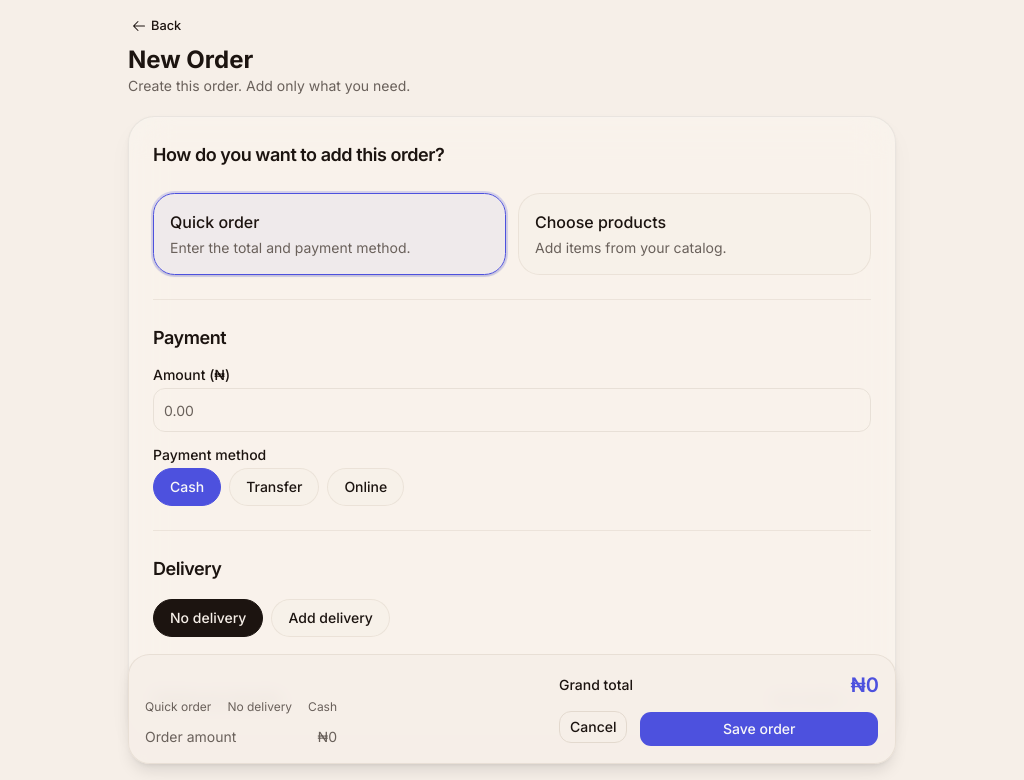
Test: NewOrderPage › shows an API error when order creation fails
Click the button "Quick order Enter the total and payment method.". click: [215, 222]
box: [153,193,506,275]
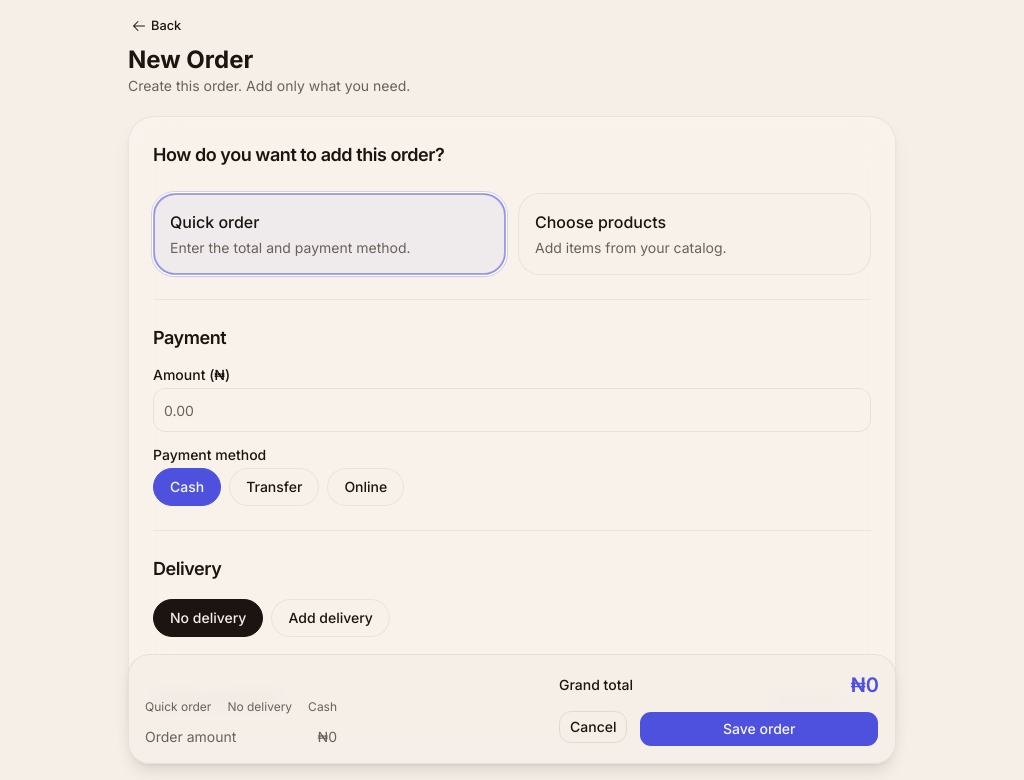
Type "9000" into the number field labelled "Amount (₦)". click: [512, 410]
box: [153,388,871,432]
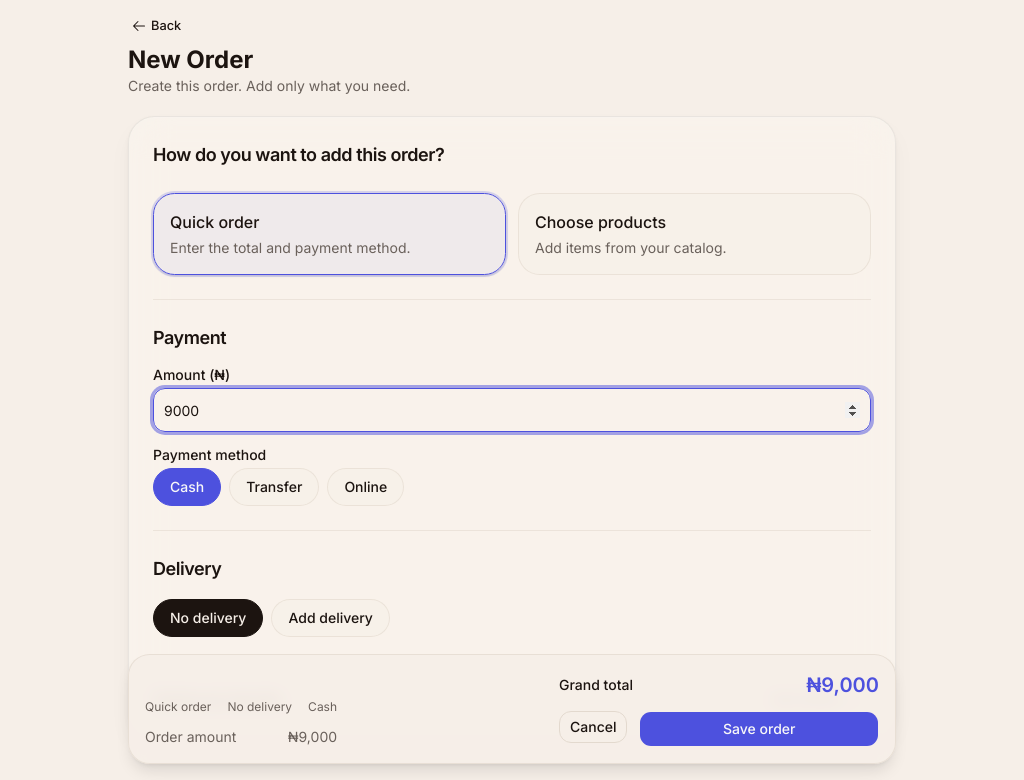
Click the button "Save order". click: [759, 729]
box: [640,711,879,747]
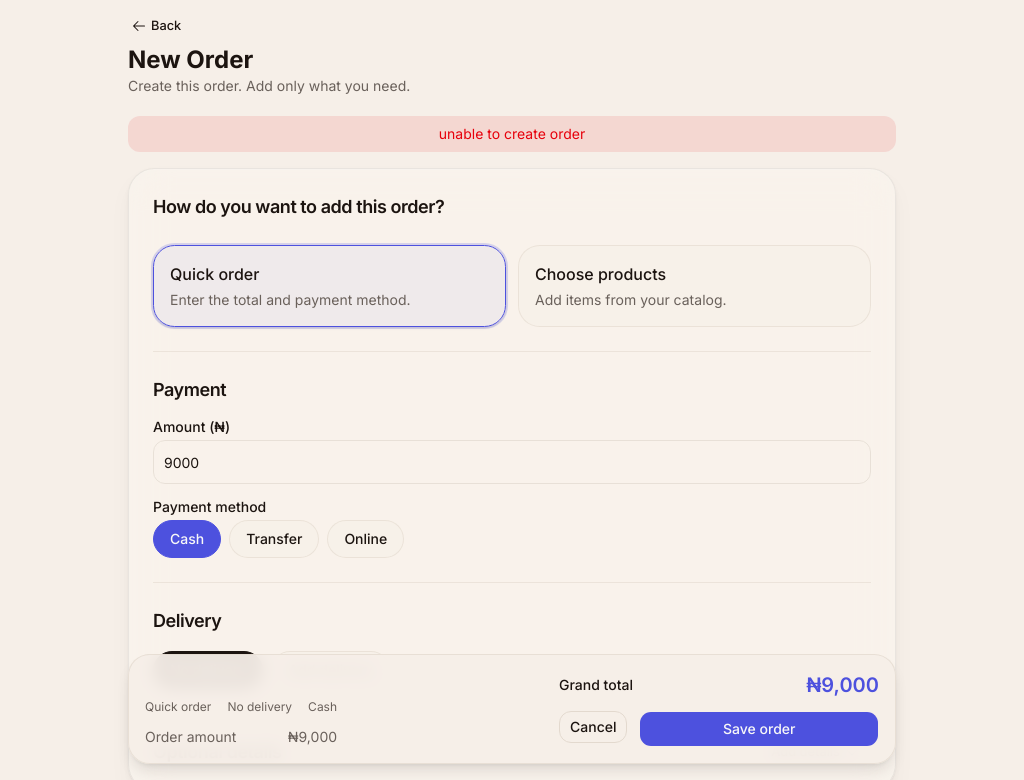
Check: the text "unable to create order" is shown, box [128,116,896,152]
